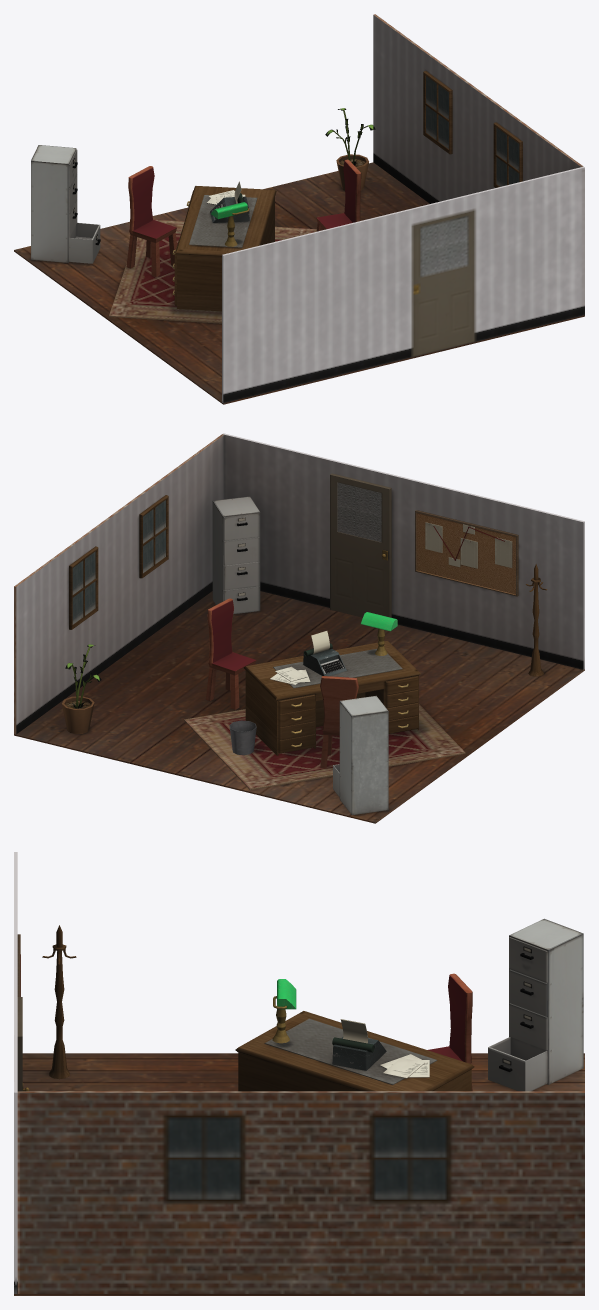
The picture shows the model from 3 angles, top to bottom: view 1: azimuth 30°, elevation 25°; view 2: azimuth 150°, elevation 25°; view 3: azimuth 270°, elevation 25°; orthographic projection. The views are drawn at different scales.
Visible parts, largest first — view 1: Wall2, Wall1, Floor, CabinetOpen1, DeskBody1, Rug, Chair2, Window2, DeskMat, Window3, Chair1, Lamp1 (+1 smaller); view 2: Floor, Wall2, Wall1, DeskBody1, Door, Rug, polySurface1, CabinetOpen1, Cabinet, Chair1, Window2, Window3 (+7 smaller); view 3: Wall1, CabinetOpen1, Floor, DeskBody1, DeskMat, Chair2, Wall2, Coat_Rack1, Body, Lamp1, Door.
Boxes of the visible parts, <box> form: Wall2: <box>222,166,584,403</box>; Wall1: <box>373,14,583,203</box>; Floor: <box>14,162,584,404</box>; CabinetOpen1: <box>31,145,100,263</box>; DeskBody1: <box>172,186,276,311</box>; Rug: <box>109,219,316,323</box>; Chair2: <box>126,166,176,277</box>; Window2: <box>423,71,452,154</box>; DeskMat: <box>189,195,257,247</box>; Window3: <box>493,122,522,187</box>; Chair1: <box>316,159,361,231</box>; Lamp1: <box>211,202,249,246</box>; Floor: <box>14,591,584,823</box>; Wall2: <box>222,433,584,669</box>; Wall1: <box>14,434,224,734</box>; DeskBody1: <box>244,641,420,755</box>; Door: <box>330,473,391,617</box>; Rug: <box>184,704,465,790</box>; polySurface1: <box>415,510,518,596</box>; CabinetOpen1: <box>333,695,388,815</box>; Cabinet: <box>212,496,260,613</box>; Chair1: <box>205,598,256,709</box>; Window2: <box>69,546,98,629</box>; Window3: <box>139,495,168,578</box>; Wall1: <box>17,1091,584,1293</box>; CabinetOpen1: <box>488,918,583,1091</box>; Floor: <box>14,1053,584,1295</box>; DeskBody1: <box>235,1011,474,1091</box>; DeskMat: <box>264,1018,437,1084</box>; Chair2: <box>427,973,472,1091</box>; Wall2: <box>14,852,17,1293</box>; Coat_Rack1: <box>42,925,76,1079</box>; Body: <box>332,1036,386,1070</box>; Lamp1: <box>272,979,296,1043</box>; Door: <box>17,997,29,1091</box>.
Size of the model in its own units: 584 by 230 by 586.
Materials: 1 (1 with a texture image).
